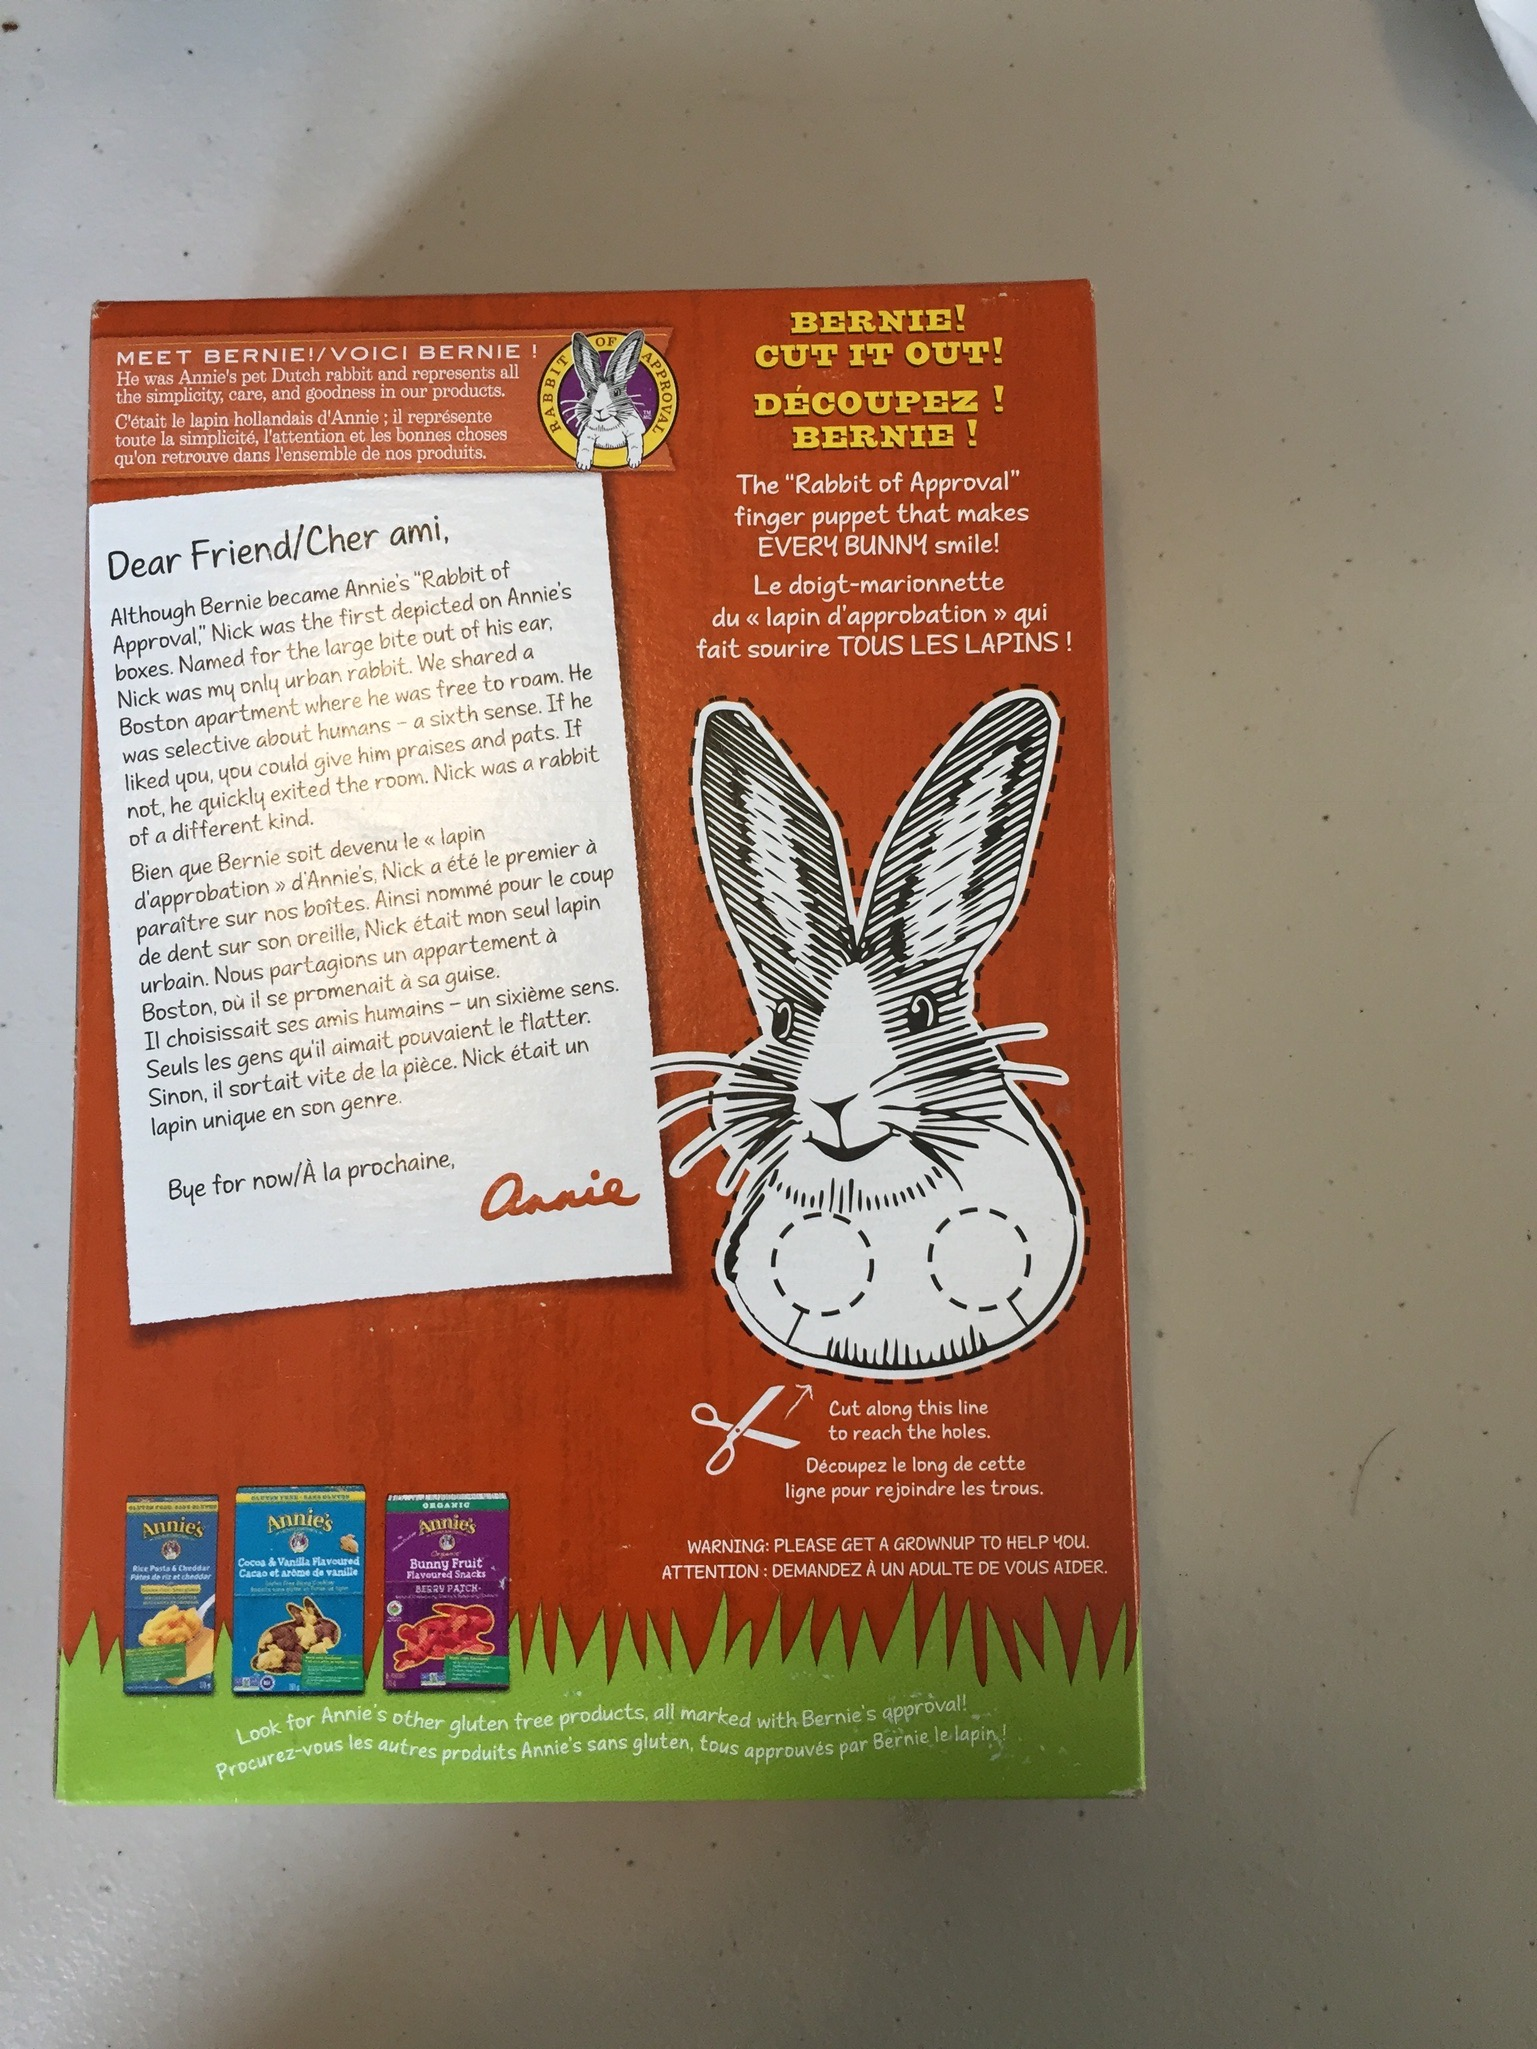annies_snickerdoodle_cinnamon_sugar: (103, 313, 1104, 1766)
